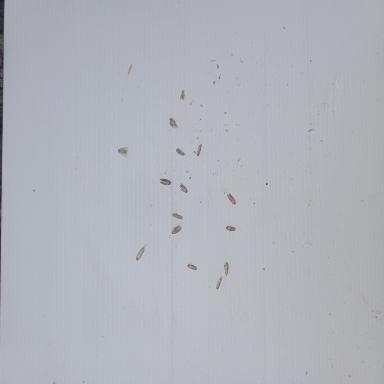pbw: (135, 246, 145, 260), (168, 116, 178, 129), (226, 193, 237, 204), (160, 177, 172, 186), (116, 147, 128, 156), (171, 224, 181, 234), (178, 183, 188, 193), (214, 276, 222, 288), (223, 261, 229, 276), (187, 263, 198, 271), (172, 212, 182, 220), (175, 148, 185, 156), (196, 143, 202, 156), (226, 225, 236, 232), (180, 88, 185, 100)
